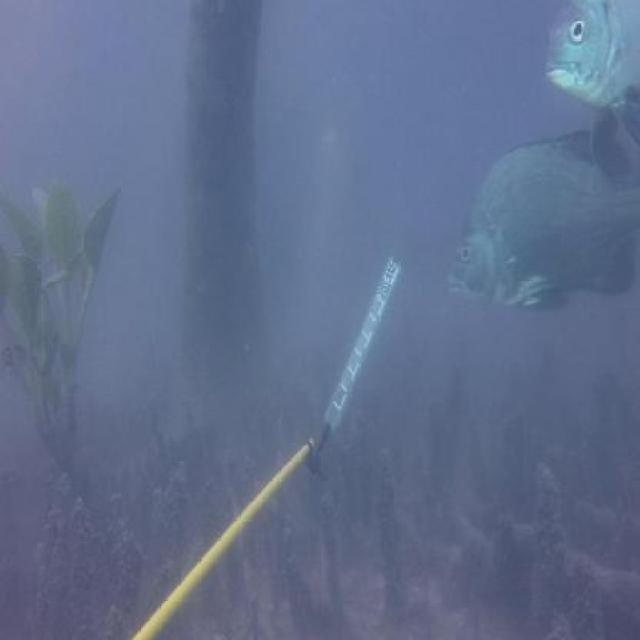acanthopagrus_palmaris: (444, 116, 640, 317), (543, 0, 640, 177)
